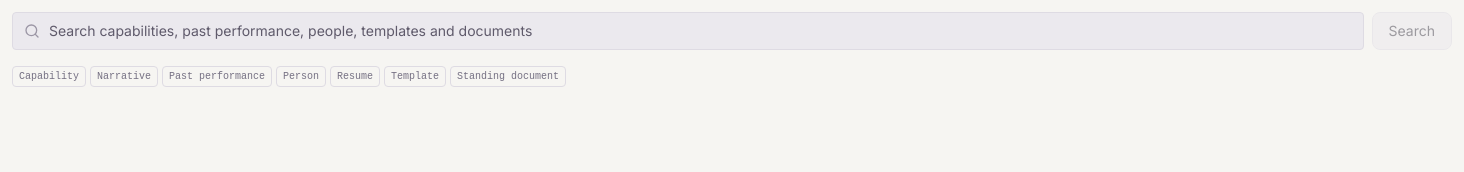
Scenario: KnowledgeSearch › surfaces a server error
The image size is (1464, 172).
Step 1. Replace the text in the field named "Search knowledge" with "x" → (688, 31), box [12, 12, 1364, 50]
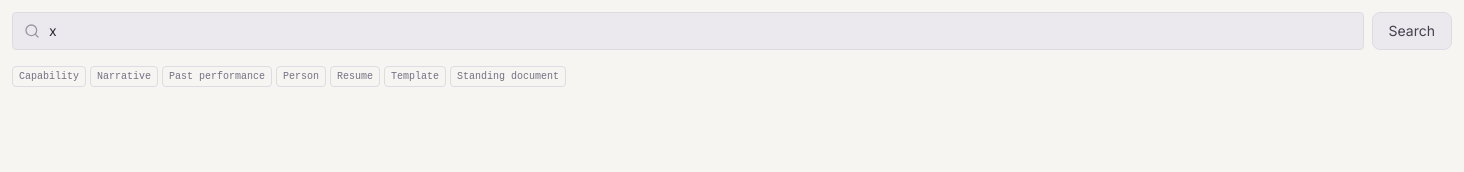
Step 2. Click the button "Search" → (1412, 31), box [1372, 12, 1452, 50]
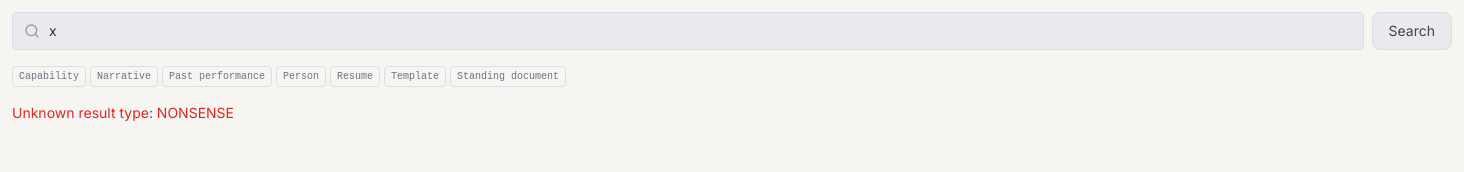
expect the text "Unknown result type: NONSENSE" is shown: met, box [12, 104, 234, 121]
